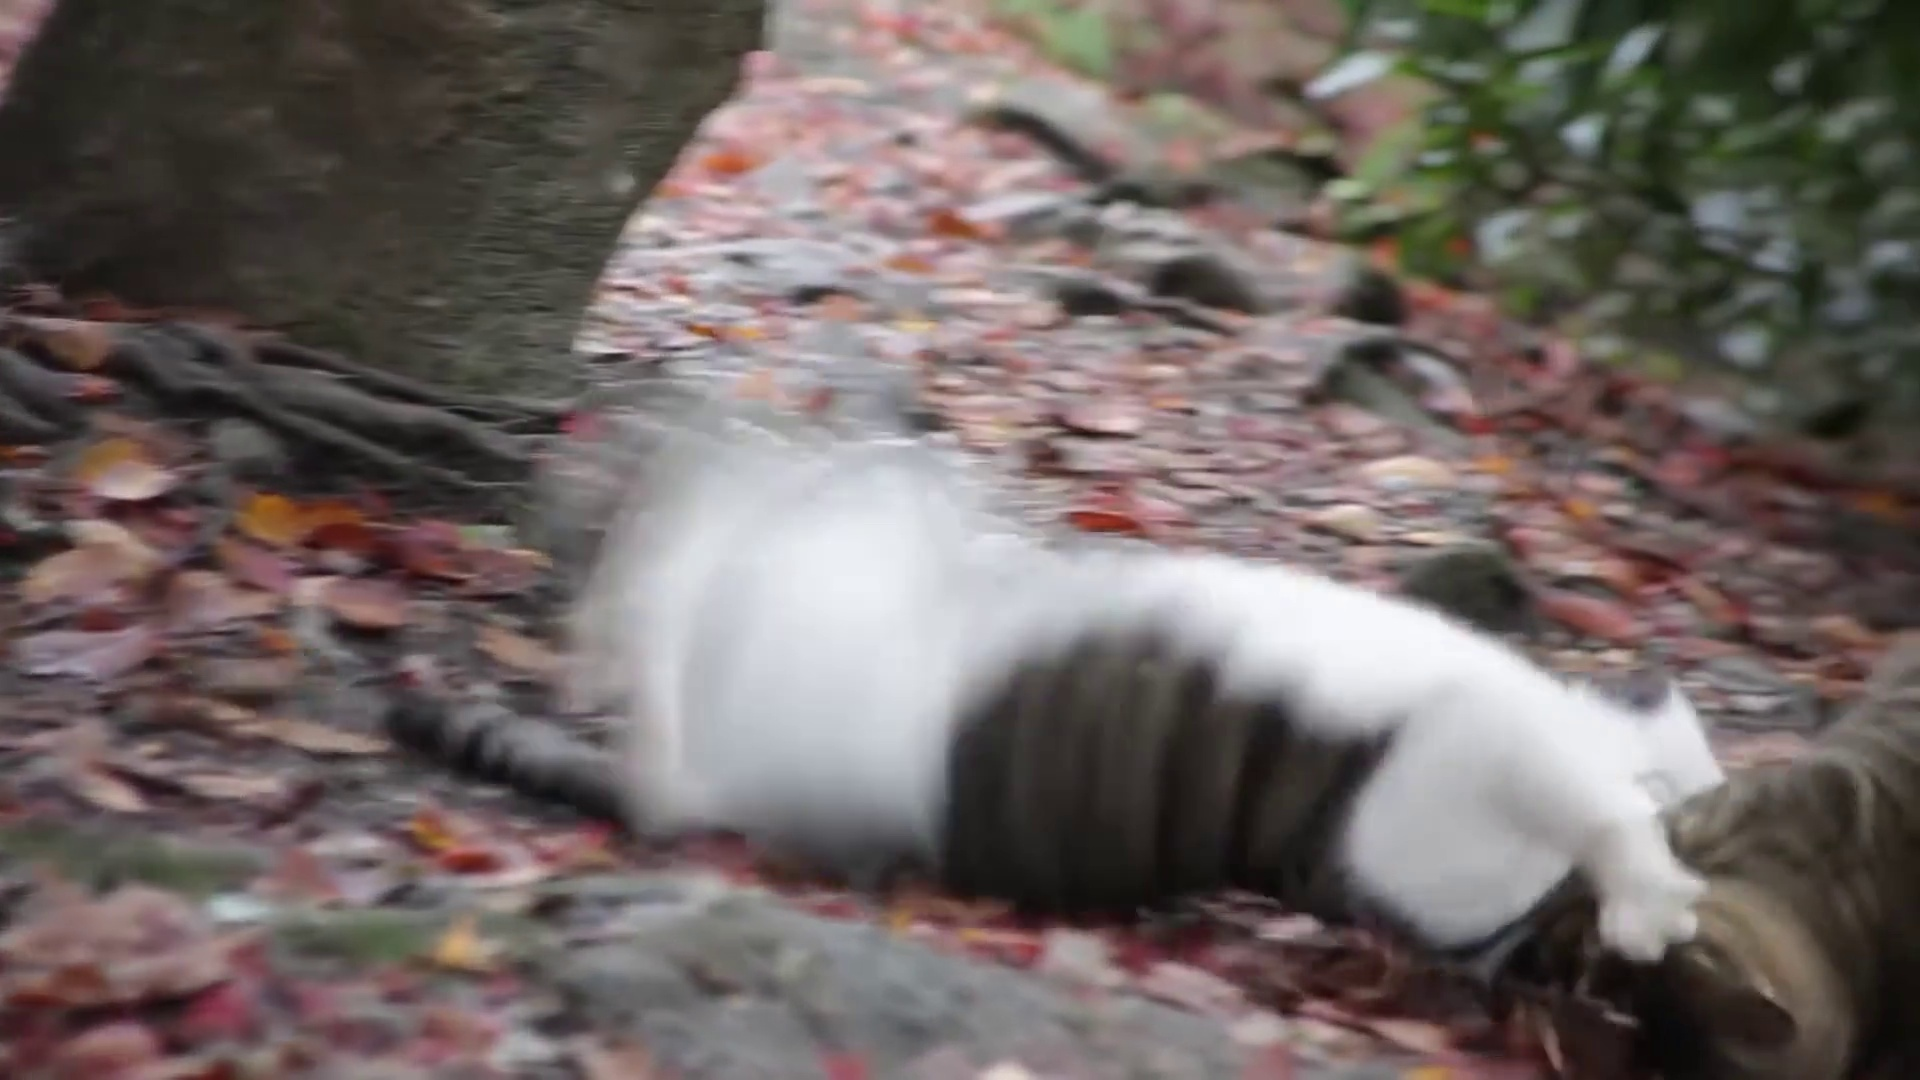black-white: (382, 426, 1727, 963)
pure black: (1539, 657, 1920, 1080)
